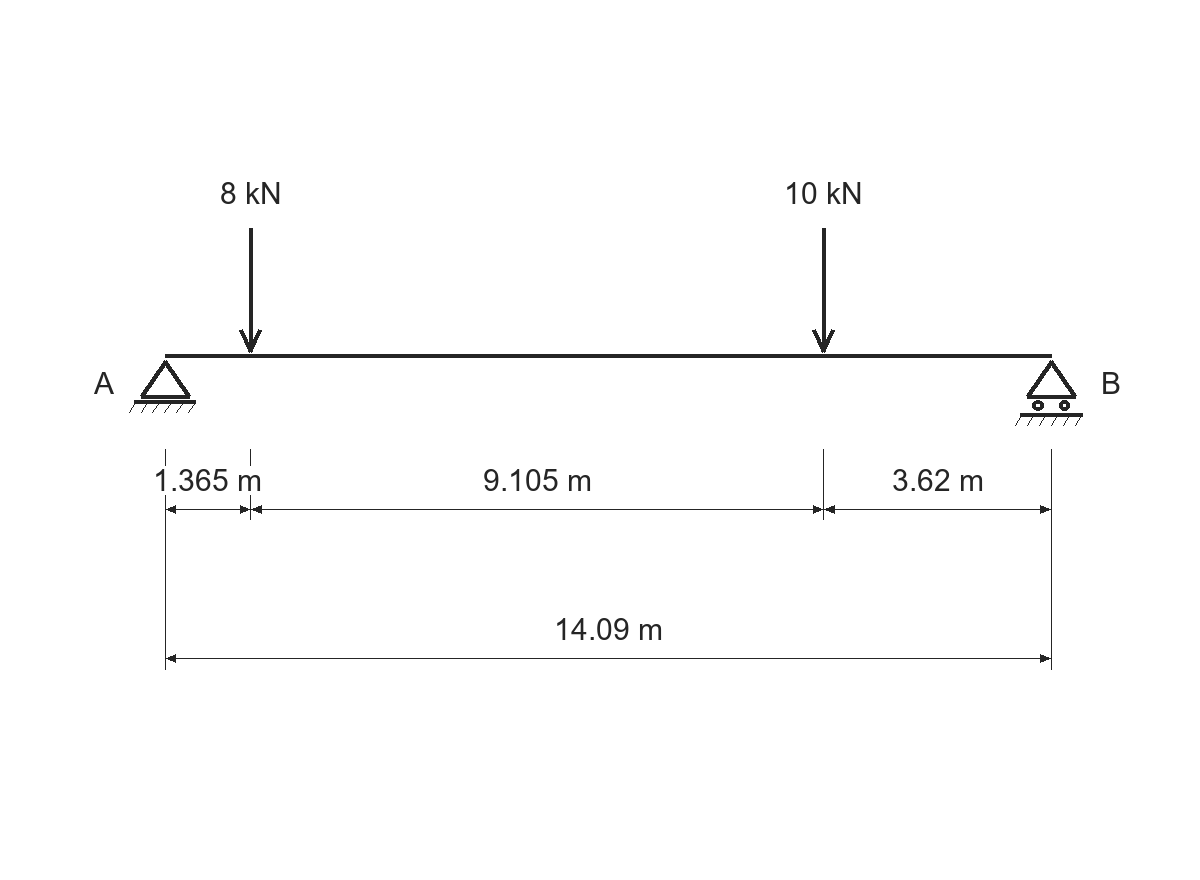pin_support: (129, 360, 196, 413)
point_load: (239, 228, 262, 353), (812, 228, 835, 353)
roller_support: (1015, 360, 1083, 426)
